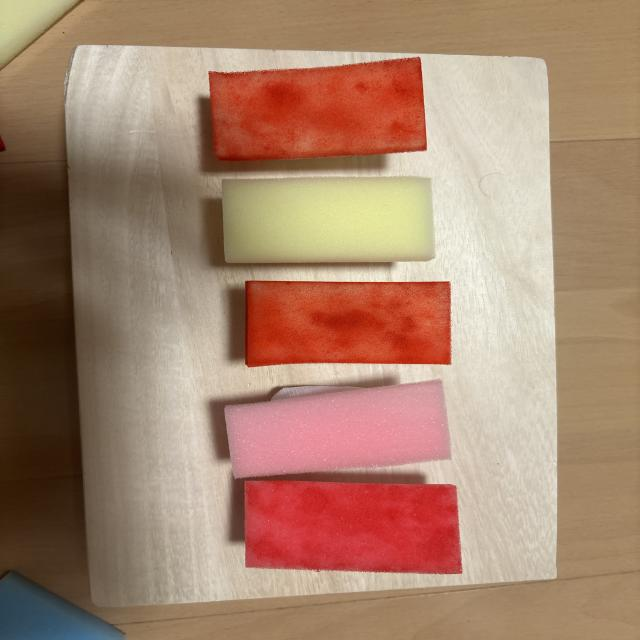maguro: (245, 481, 462, 574)
salmon: (210, 57, 426, 161), (246, 281, 450, 366)
tai: (225, 380, 450, 477)
tamago: (222, 177, 434, 263)
